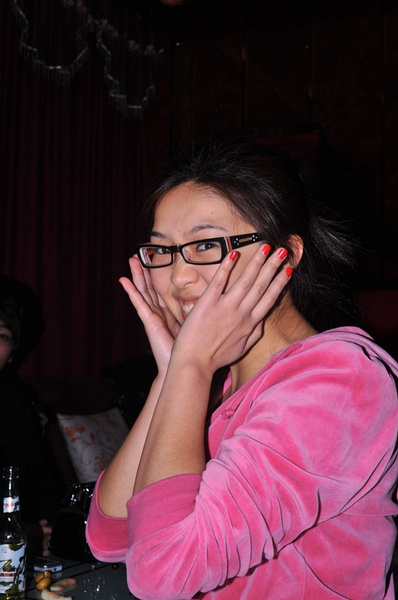face: (151, 186, 254, 353)
